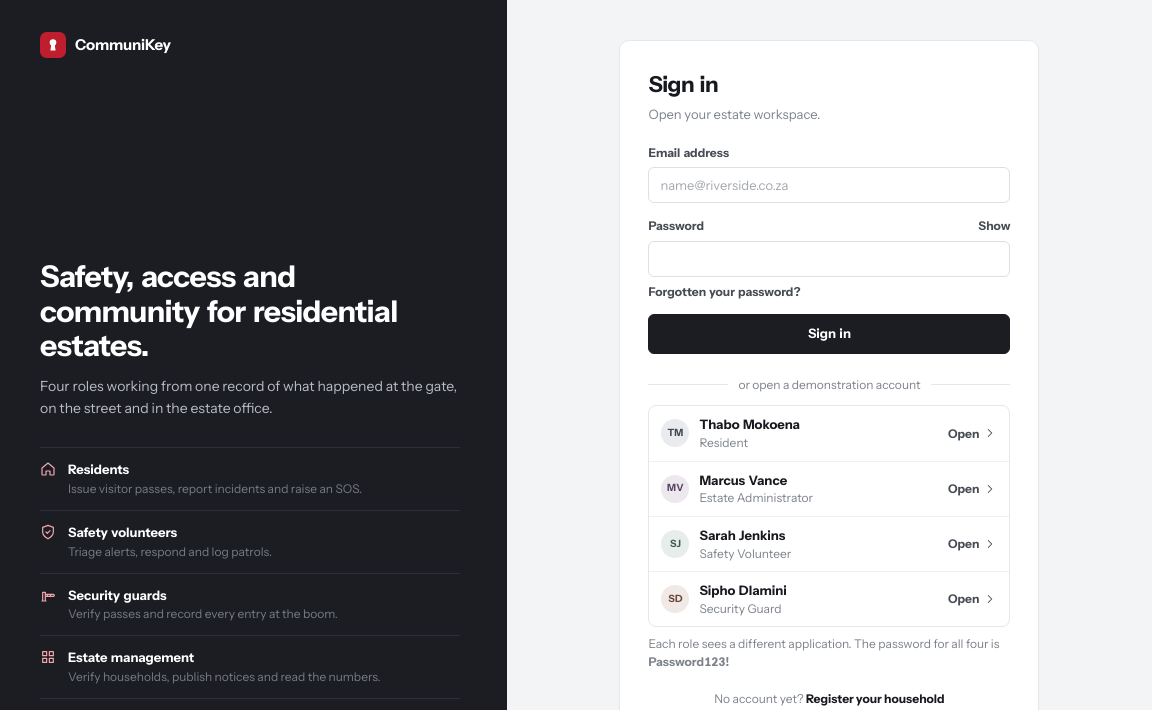
Scenario: a wrong password is reported and does not sign the person in
Type "thabo@example.com" into the field labelled "Email address" at (829, 185), box [648,167,1010,203]
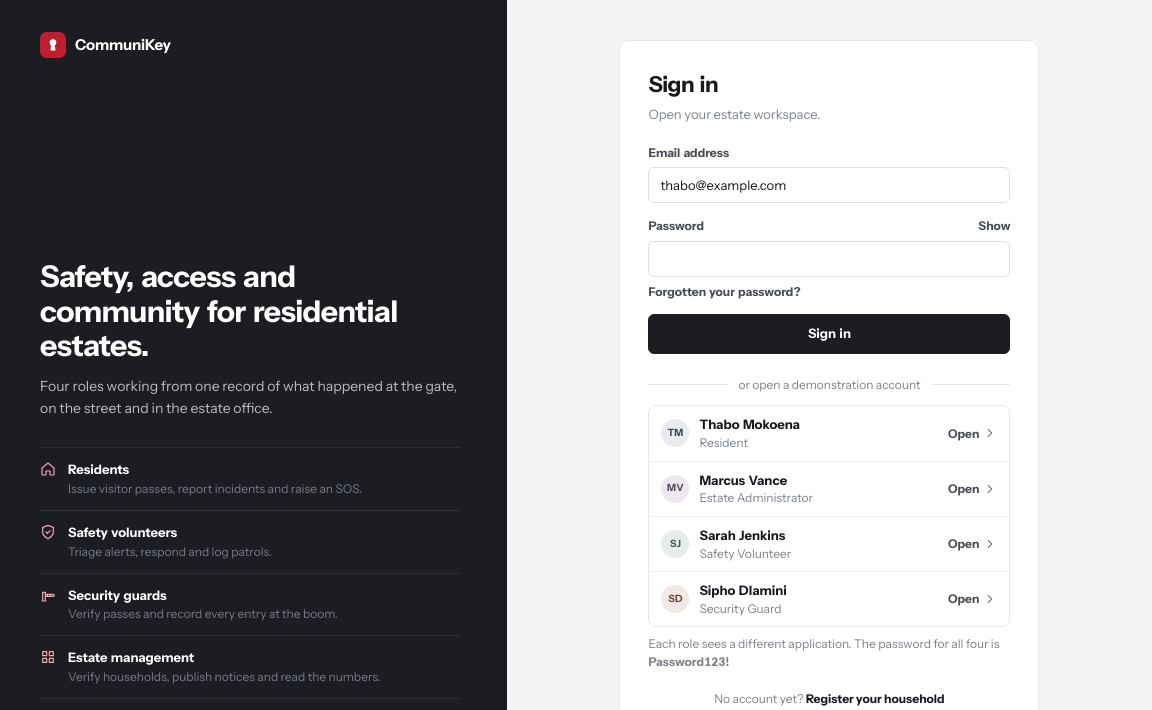
Type "not-the-password" into the password field labelled "Password" at (829, 258), box [648,240,1010,276]
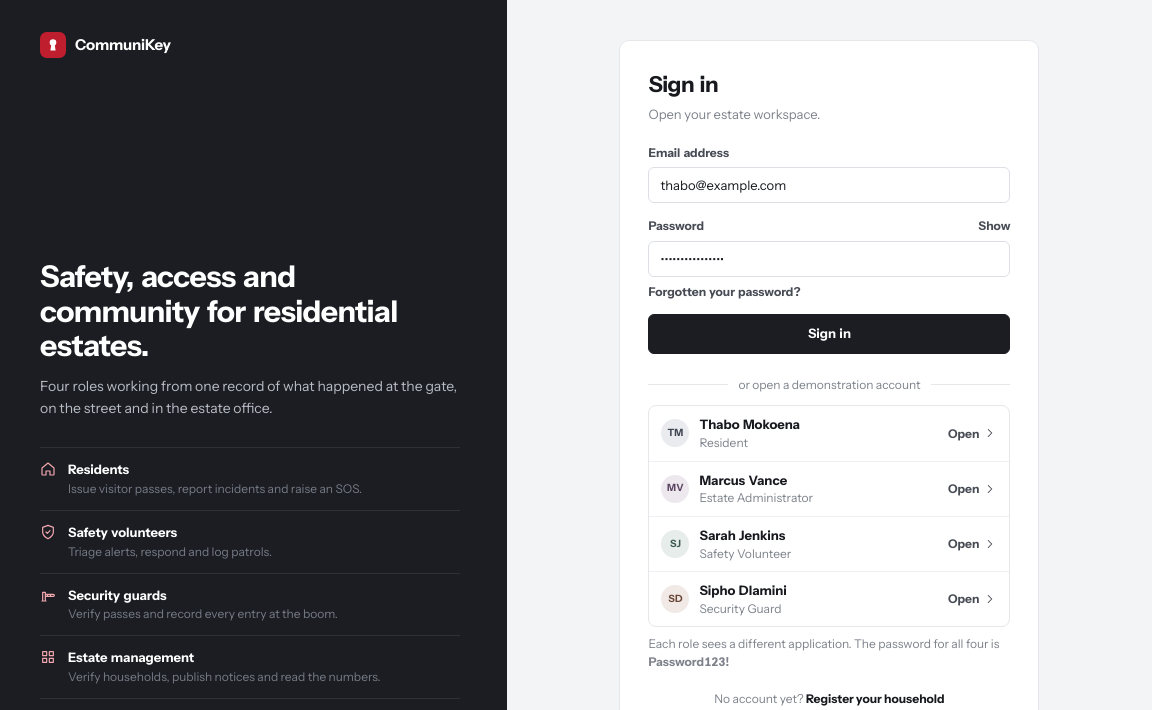
Click the button "Sign in" at (829, 334), box [648,314,1010,354]
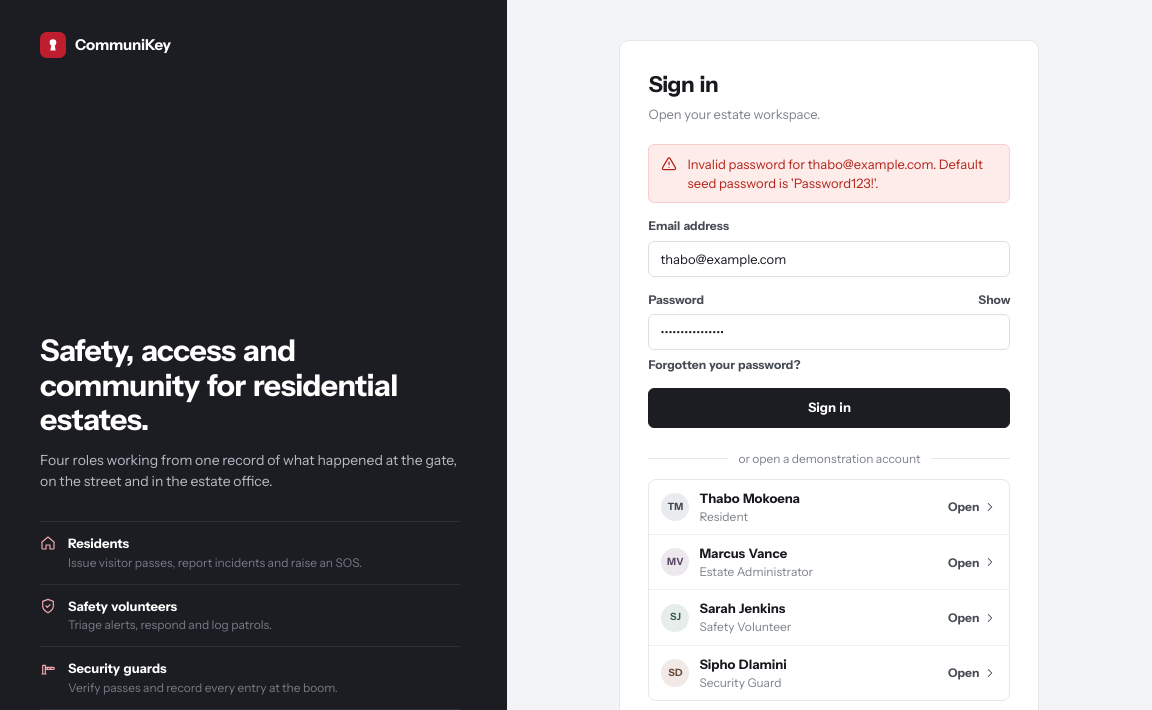
expect the heading "Sign in" is shown: met, box [648,71,718,98]
expect the message is shown: met, box [648,144,1010,203]
